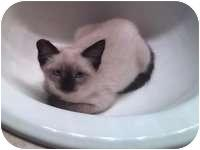siamese: (36, 31, 105, 102)
